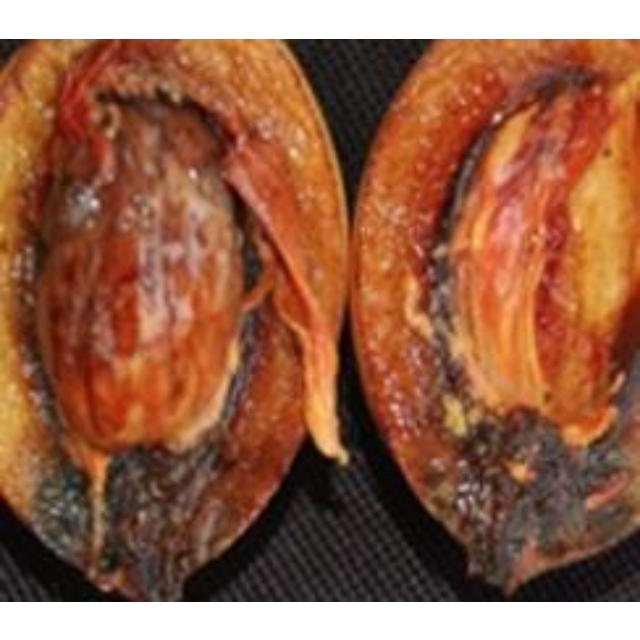damaged: (0, 38, 351, 599), (349, 38, 637, 599)
